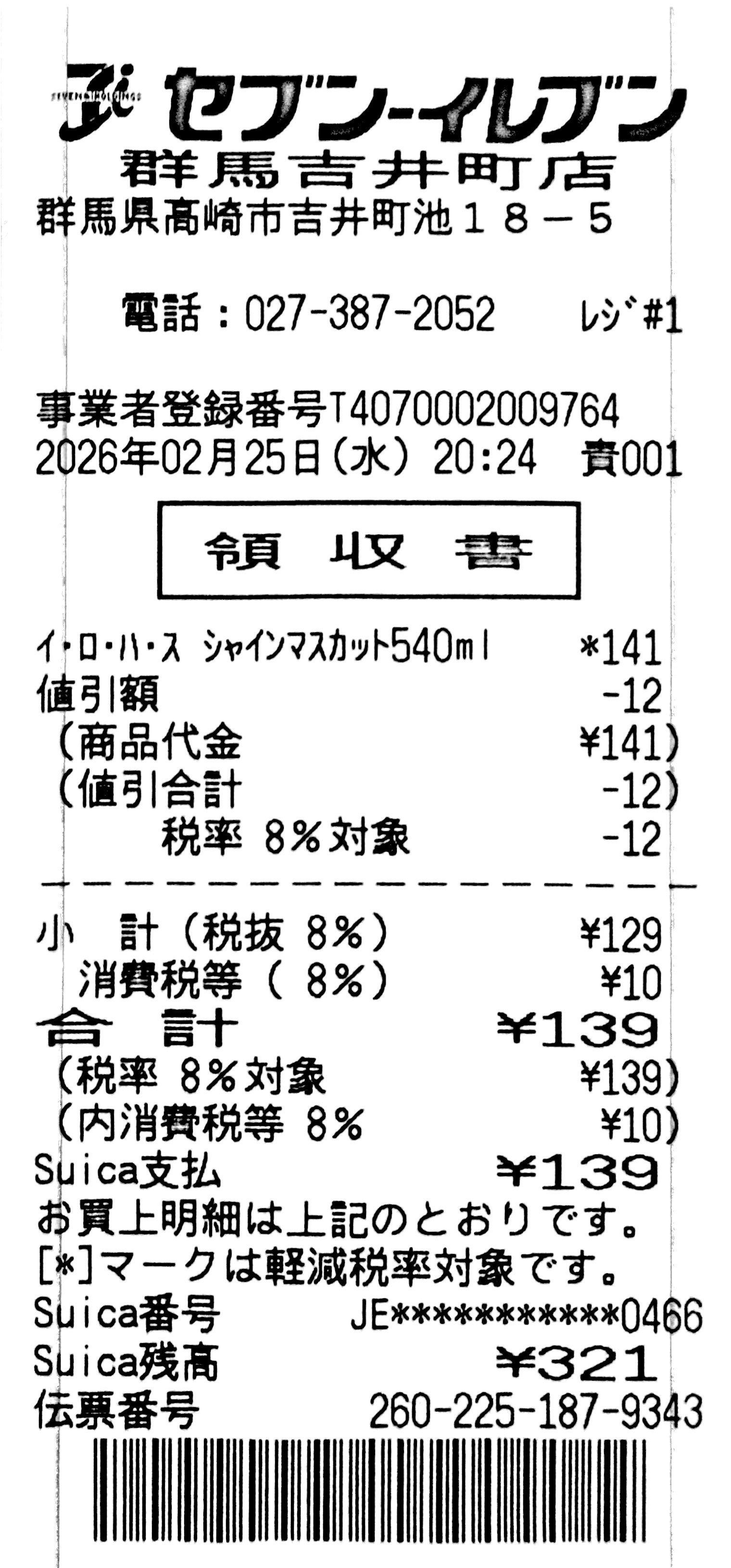Date: (34, 437, 319, 479)
Pay: (34, 1006, 659, 1050)
Shopname: (164, 66, 687, 142)
Telnum: (245, 293, 496, 332)
